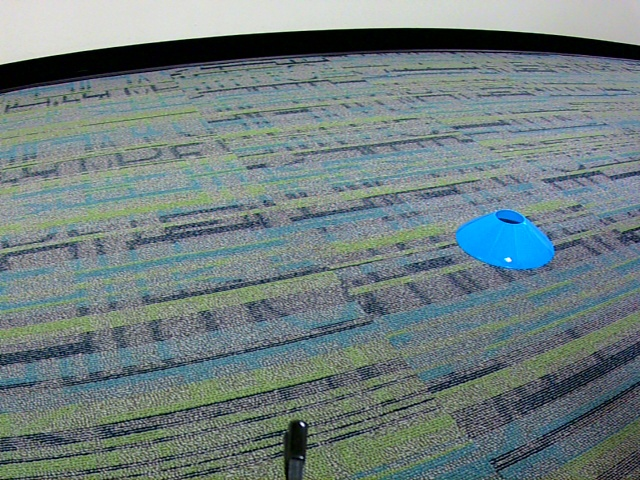cone: (453, 208, 556, 271)
